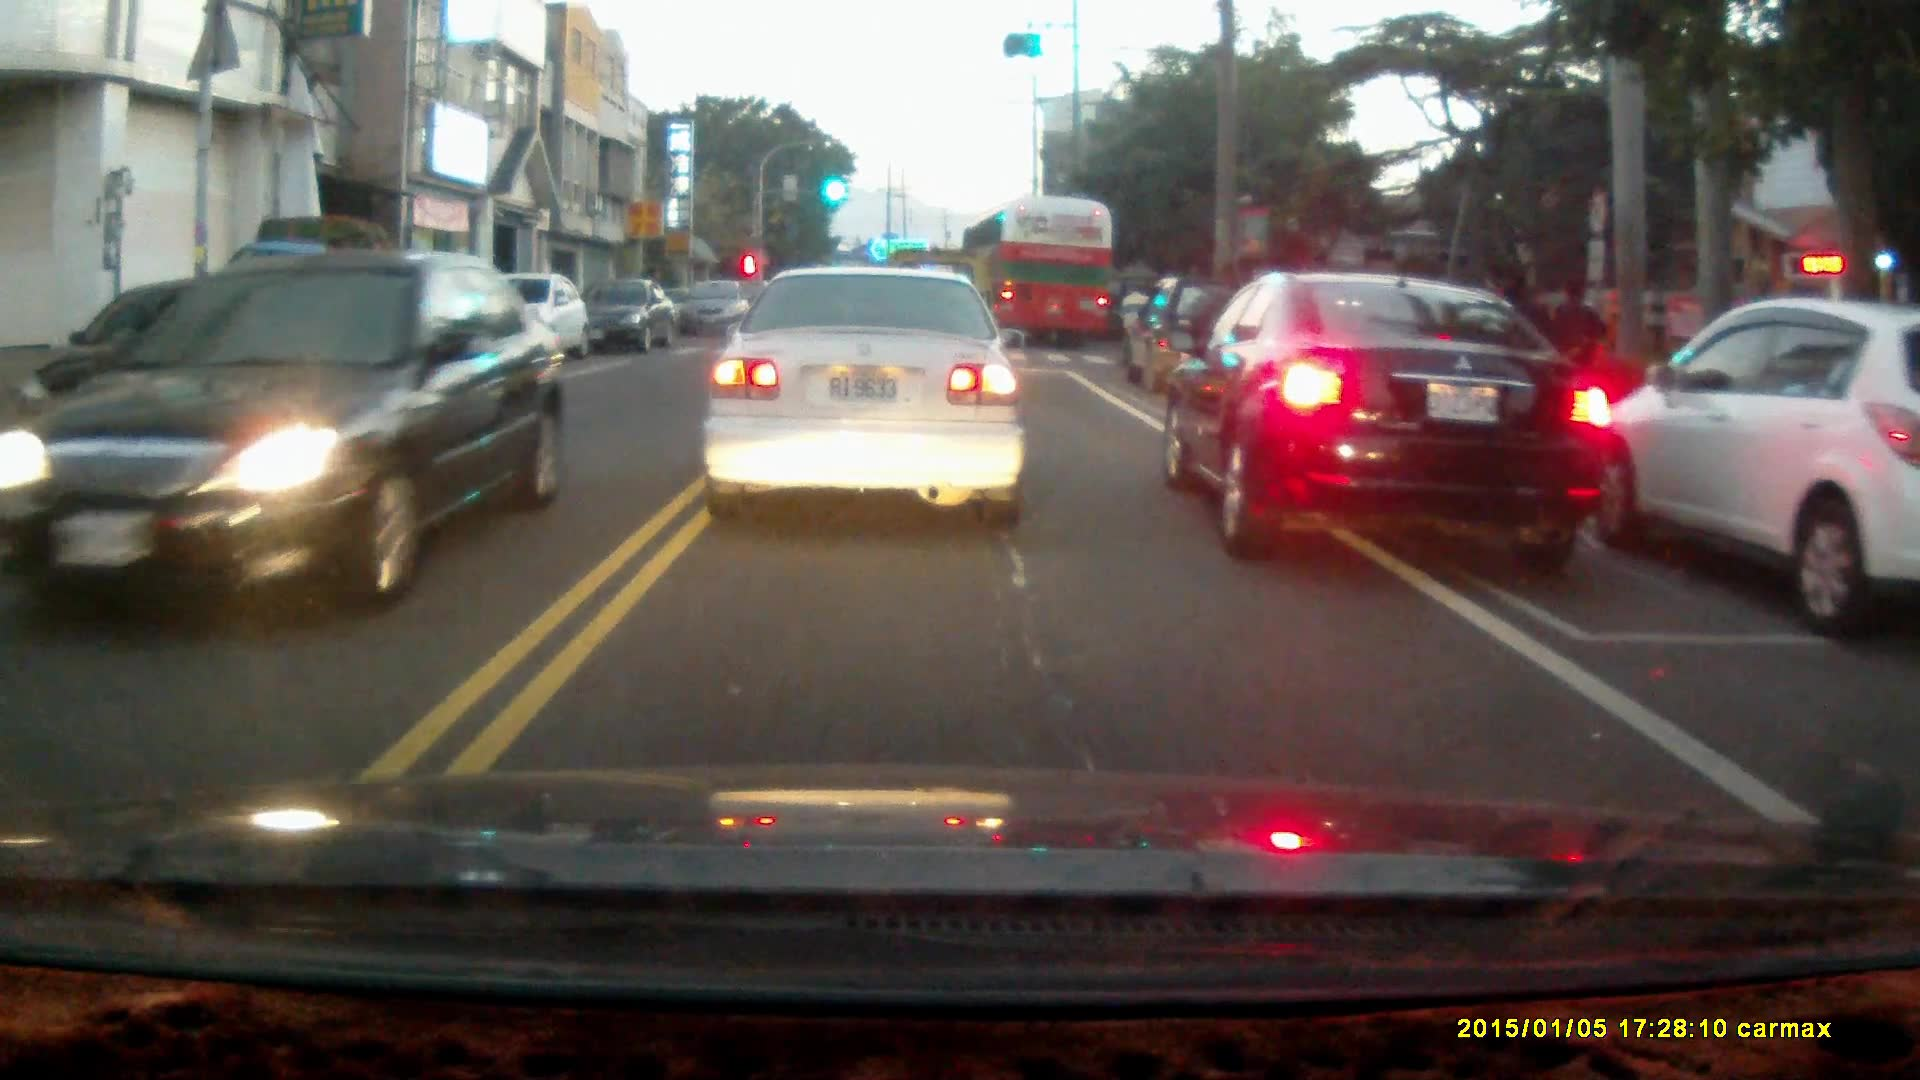pedestrian: (1548, 275, 1605, 412)
rider: (1117, 280, 1153, 357)
vehicle: (1, 251, 576, 616), (1162, 274, 1618, 564), (1573, 295, 1920, 623), (701, 264, 1029, 530), (203, 217, 438, 405), (962, 203, 1113, 356), (1127, 279, 1285, 400), (573, 277, 680, 360), (680, 283, 755, 342)
